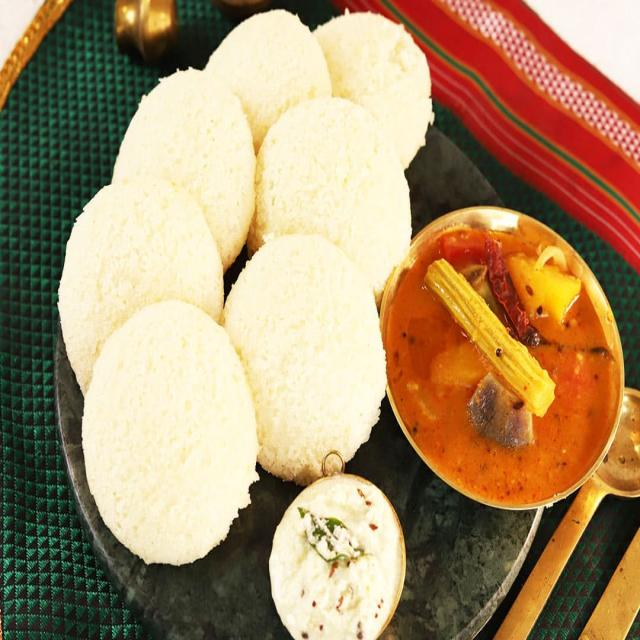idli: (84, 310, 255, 557), (234, 239, 391, 478), (58, 172, 221, 388), (261, 96, 412, 286), (123, 65, 255, 273), (318, 5, 434, 170), (207, 15, 335, 115)
